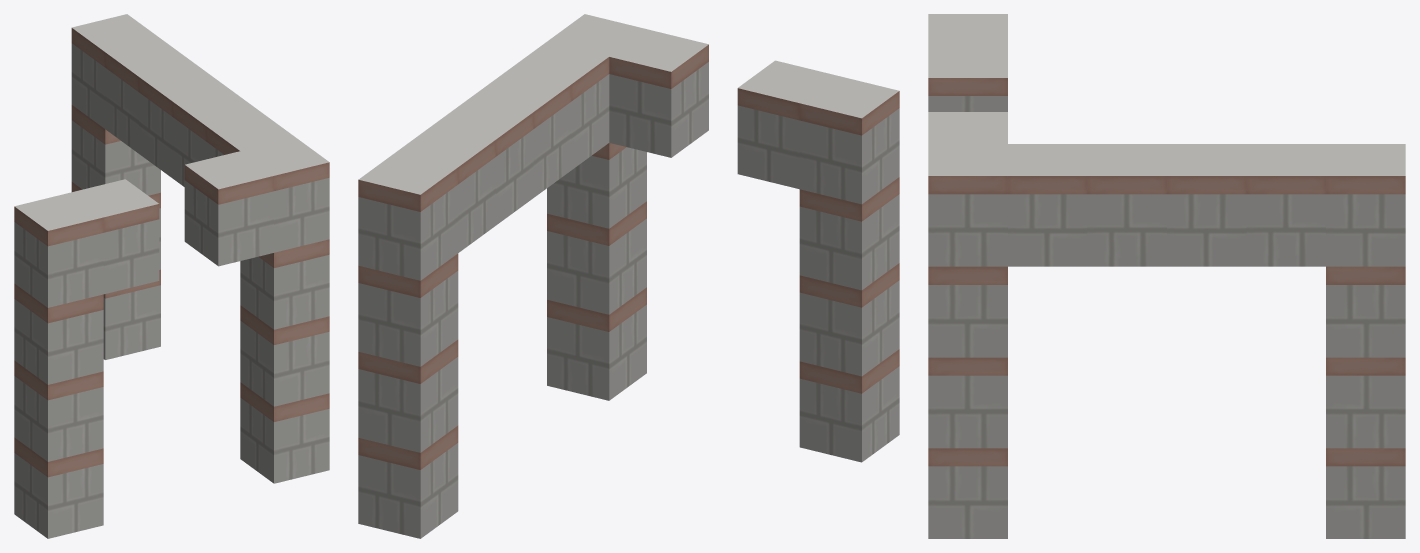
The model's file is building_r_centralgate.gltf.
The picture shows the model from 3 angles, left to right: view 1: azimuth 30°, elevation 25°; view 2: azimuth 150°, elevation 25°; view 3: azimuth 270°, elevation 25°; orthographic projection. The views are drawn at different scales.
Parts seen in each view (by area): view 1: building_r_centralgate; view 2: building_r_centralgate; view 3: building_r_centralgate.
Part boxes in pixels (bbox=[...]): building_r_centralgate: bbox=[14, 14, 329, 538]; building_r_centralgate: bbox=[358, 14, 899, 538]; building_r_centralgate: bbox=[928, 14, 1405, 538].
Bounding box in the file's own units: 0.5787 × 0.6044 × 0.7205.
1 material, 1 textured.
